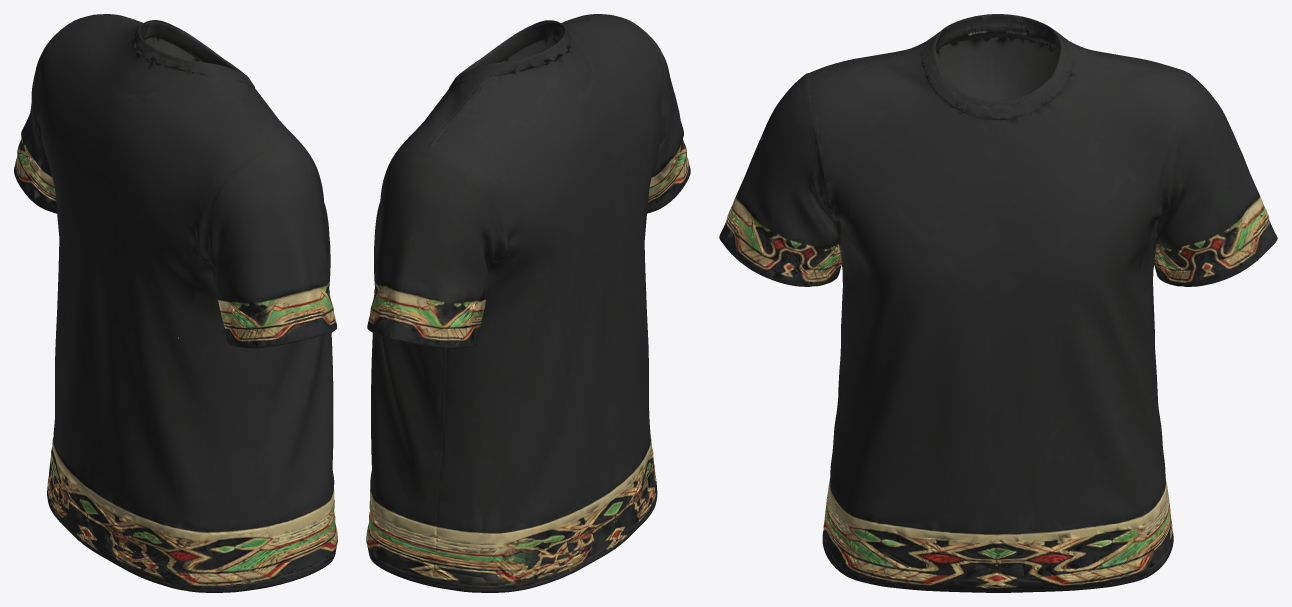
File: gonggong.glb
3 views of the same model, side by side, from view 1: azimuth 30°, elevation 25°; view 2: azimuth 150°, elevation 25°; view 3: azimuth 270°, elevation 25° (orthographic). The views are drawn at different scales.
Visible parts, largest first — view 1: tripo_node_3cbbef81-7a32-4cf7-92c1-1c95981737ea; view 2: tripo_node_3cbbef81-7a32-4cf7-92c1-1c95981737ea; view 3: tripo_node_3cbbef81-7a32-4cf7-92c1-1c95981737ea.
Boxes of the visible parts, <box> form: tripo_node_3cbbef81-7a32-4cf7-92c1-1c95981737ea: <box>14,14,337,592</box>; tripo_node_3cbbef81-7a32-4cf7-92c1-1c95981737ea: <box>366,14,690,592</box>; tripo_node_3cbbef81-7a32-4cf7-92c1-1c95981737ea: <box>719,14,1277,592</box>.
Size of the model in its own units: 0.4441 by 0.9805 by 0.9769.
Materials: 1 (1 with a texture image).
